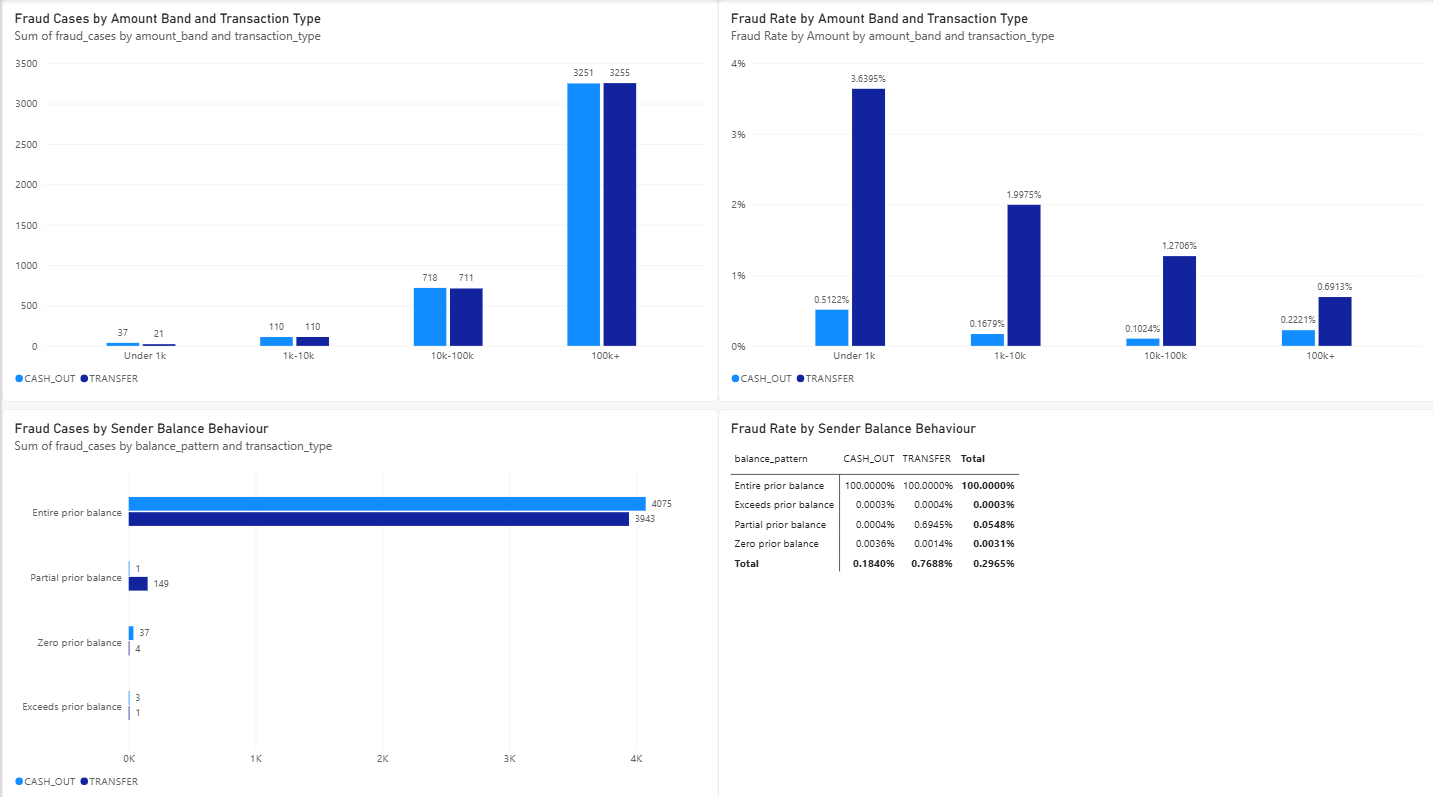

This screenshot's page, from the dashboard's own definition file:
{"tool":"powerbi","page":{"name":"Transaction Behaviour","canvas":[1920,1080],"ordinal":1},"visuals":[{"type":"clusteredColumnChart","title":"Fraud Cases by Amount Band and Transaction Type","fields":{"Category":["fraud_by_amount_band.amount_band"],"Series":["fraud_by_amount_band.transaction_type"],"Y":["Sum(fraud_by_amount_band.fraud_cases)"]},"box":[0,0,960,540],"z":0},{"type":"clusteredColumnChart","title":"Fraud Rate by Amount Band and Transaction Type","fields":{"Category":["fraud_by_amount_band.amount_band"],"Series":["fraud_by_amount_band.transaction_type"],"Y":["executive_kpis.Fraud Rate by Amount"]},"box":[960,0,960,540],"z":1},{"type":"clusteredBarChart","title":"Fraud Cases by Sender Balance Behaviour","fields":{"Category":["fraud_balance_patterns.balance_pattern"],"Series":["fraud_balance_patterns.transaction_type"],"Y":["Sum(fraud_balance_patterns.fraud_cases)"]},"box":[0,550,960,530],"z":2},{"type":"pivotTable","title":"Fraud Rate by Sender Balance Behaviour","fields":{"Columns":["fraud_balance_patterns.transaction_type"],"Rows":["fraud_balance_patterns.balance_pattern"],"Values":["executive_kpis.Fraud Rate by Balance"]},"box":[960,550,960,530],"z":3}]}

Visuals, with their boxes in screenshot pixels (x1, y1, x2, y2), scaled from the page's 1920x1080 canvas onto the 1433x797 screenshot:
"Fraud Cases by Amount Band and Transaction Type" clusteredColumnChart: rect(0, 0, 716, 398)
"Fraud Rate by Amount Band and Transaction Type" clusteredColumnChart: rect(716, 0, 1432, 398)
"Fraud Cases by Sender Balance Behaviour" clusteredBarChart: rect(0, 406, 716, 796)
"Fraud Rate by Sender Balance Behaviour" pivotTable: rect(716, 406, 1432, 796)
